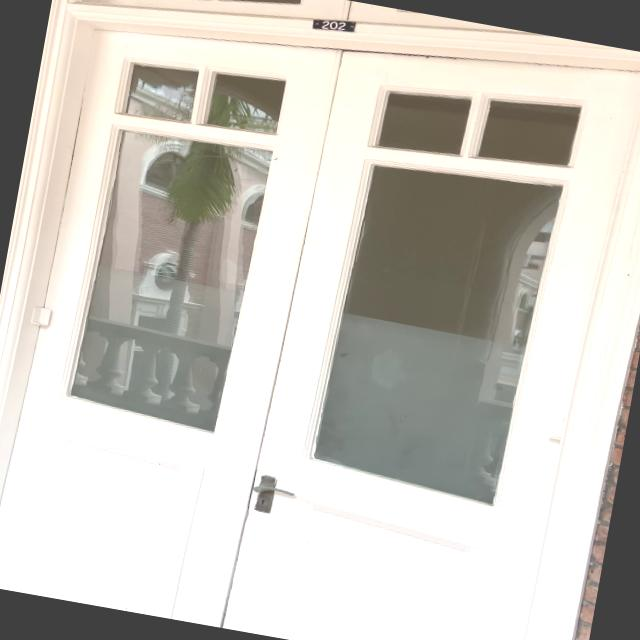room202: (304, 10, 360, 38)
